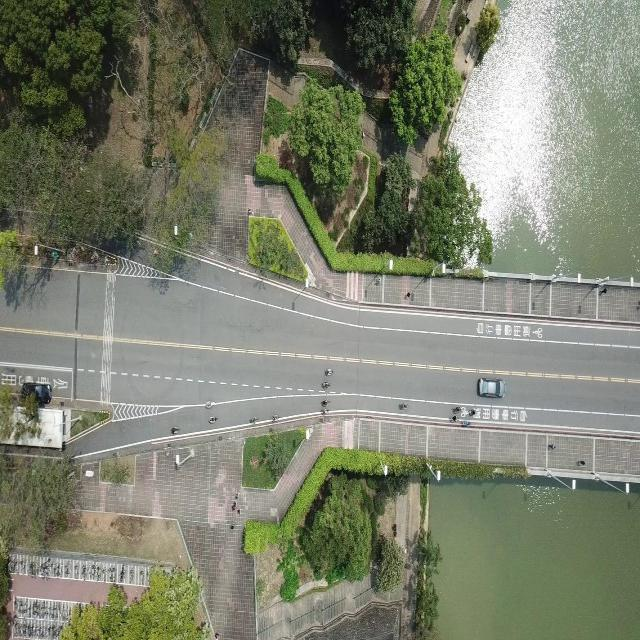bike: (324, 368, 333, 376)
car: (21, 381, 52, 404), (476, 377, 505, 398)
